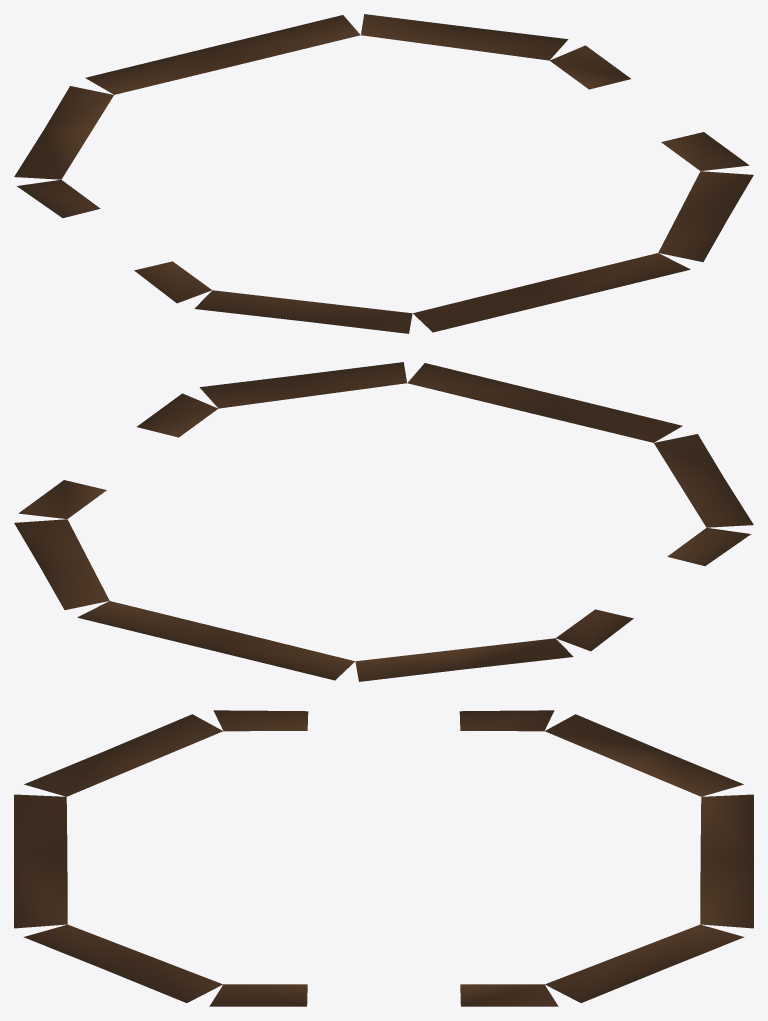
The model's file is test-floor_tiles-solid.glb.
3 views of the same model, one above another, from view 1: azimuth 30°, elevation 25°; view 2: azimuth 150°, elevation 25°; view 3: azimuth 270°, elevation 25° (orthographic). The views are drawn at different scales.
Parts seen in each view (by area): view 1: floor_ornate; view 2: floor_ornate; view 3: floor_ornate.
Part boxes in pixels (left/top/right/bottom): floor_ornate: left=14, top=14, right=753, bottom=333; floor_ornate: left=14, top=362, right=753, bottom=681; floor_ornate: left=14, top=710, right=753, bottom=1006.
Size of the model in its own units: 128 by 5.96e-08 by 135.
